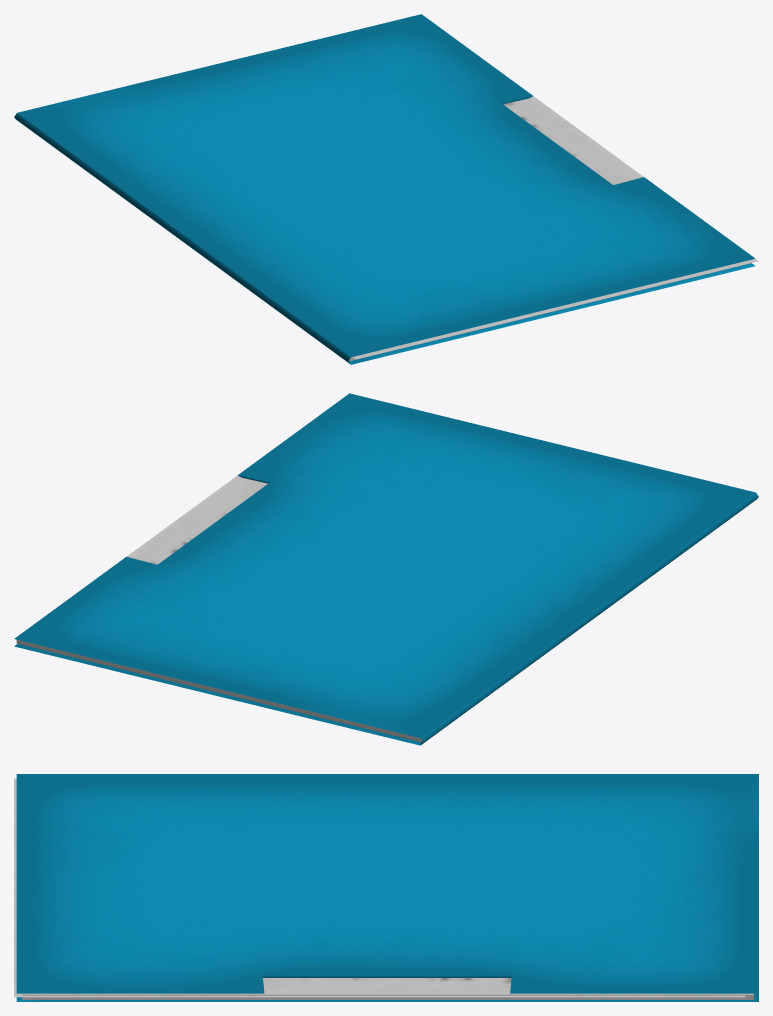
File: FBX_Folder.fbx
3 views of the same model, one above another, from view 1: azimuth 30°, elevation 25°; view 2: azimuth 150°, elevation 25°; view 3: azimuth 270°, elevation 25° (orthographic). The views are drawn at different scales.
Visible parts, largest first — view 1: SM_Folder; view 2: SM_Folder; view 3: SM_Folder.
Boxes of the visible parts, x1,y1,x2,y2 form: SM_Folder: [14, 14, 758, 364]; SM_Folder: [14, 393, 758, 745]; SM_Folder: [14, 774, 758, 1001].
Bounding box in the file's own units: 0.2134 × 0.00372 × 0.3024.
